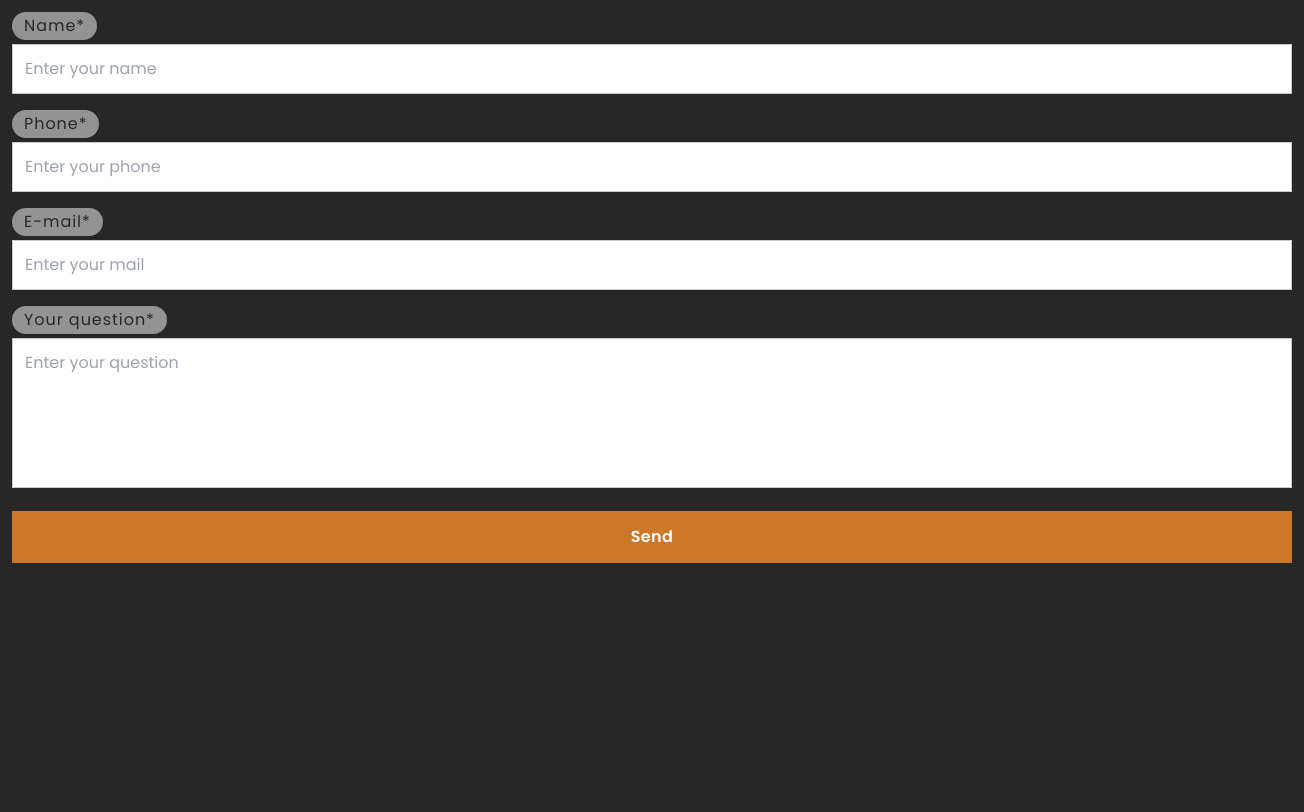
Test: ContactForm › shows validation errors when submitted empty, including the question field
The width and height of the screenshot is (1304, 812).
Click the button "Send" at [652, 537], box [12, 511, 1292, 563]
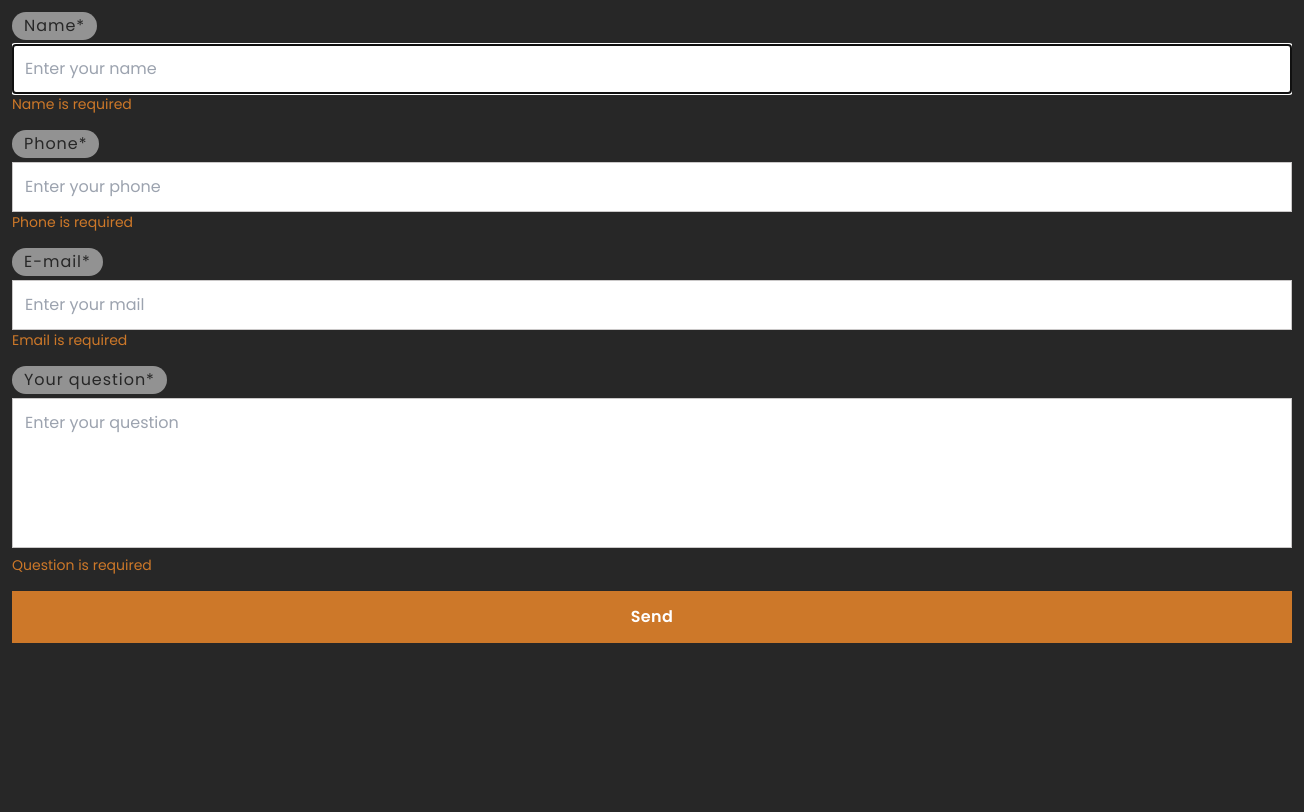
Result: the text "Name is required" is shown at [12, 94, 132, 114]
Result: the text "Phone is required" is shown at [12, 212, 133, 232]
Result: the text "Email is required" is shown at [12, 330, 127, 350]
